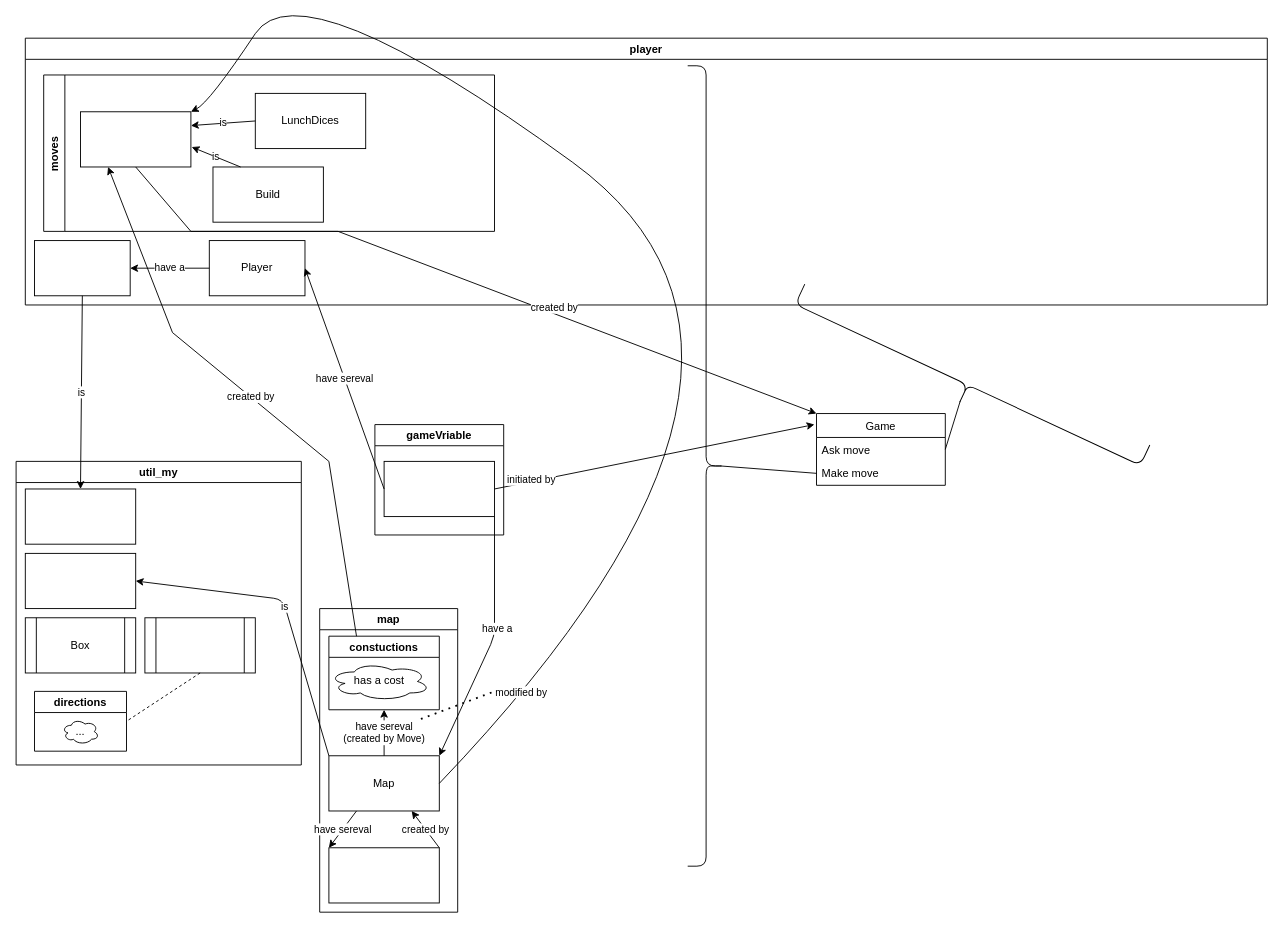
Some shapes in this 1283 by 929 pixel diagram are drawn without their labels. The shapes that lost their labels are listed below. From the top down, each one's centre as x and y in pixels, then its label:
At [135,139]: "Move".
At [82,268]: "Inventaire".
At [438,488]: "GameVariables".
At [80,516]: "RessourceCount".
At [80,580]: "HexagonalGrids".
At [199,645]: "Coord".
At [383,875]: "Land".
